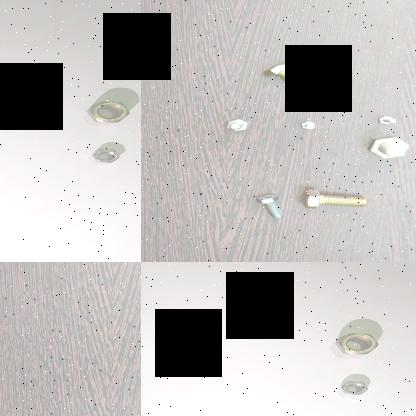Bolts: (302, 185, 372, 212), (261, 58, 315, 90), (362, 134, 412, 160), (250, 191, 286, 221), (222, 116, 252, 134), (370, 114, 396, 129)
NUTS: (333, 329, 384, 359), (84, 100, 132, 124), (338, 379, 372, 397), (91, 147, 119, 165)
